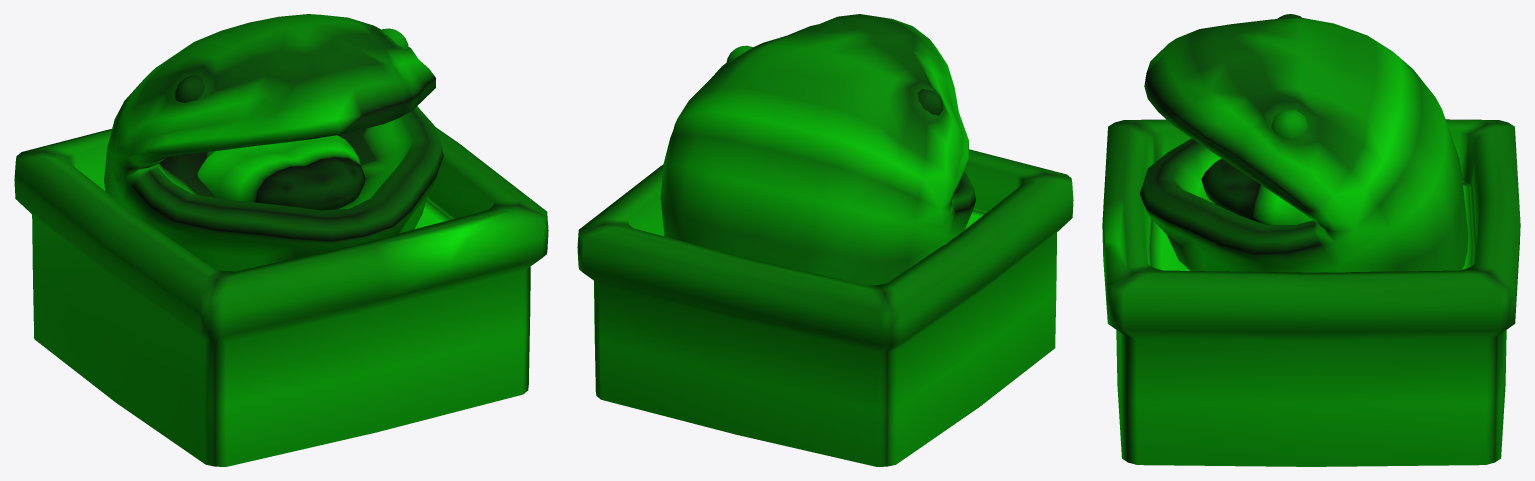
The model's file is newestTest.fbx.
3 views of the same model, side by side, from view 1: azimuth 30°, elevation 25°; view 2: azimuth 150°, elevation 25°; view 3: azimuth 270°, elevation 25° (orthographic). The views are drawn at different scales.
Parts seen in each view (by area): view 1: trashcan_idle_anim:trashcan_rig:trashcan_geo; view 2: trashcan_idle_anim:trashcan_rig:trashcan_geo; view 3: trashcan_idle_anim:trashcan_rig:trashcan_geo.
Part boxes in pixels (x1,y1,x2,y2): trashcan_idle_anim:trashcan_rig:trashcan_geo: (14,14,548,466); trashcan_idle_anim:trashcan_rig:trashcan_geo: (577,14,1073,466); trashcan_idle_anim:trashcan_rig:trashcan_geo: (1102,14,1520,466).
Size of the model in its own units: 1 by 0.9133 by 1.
